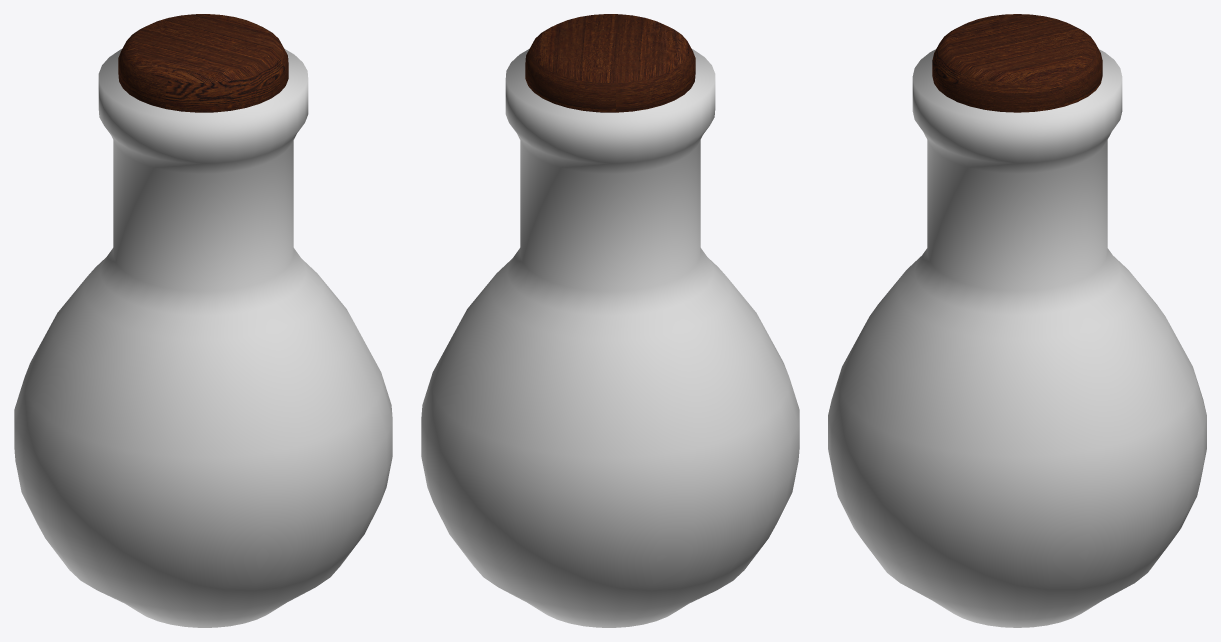
File: G_Potion.fbx
The picture shows the model from 3 angles, left to right: view 1: azimuth 30°, elevation 25°; view 2: azimuth 150°, elevation 25°; view 3: azimuth 270°, elevation 25°; orthographic projection.
Parts seen in each view (by area): view 1: Potion Glass, Potion Lid; view 2: Potion Glass, Potion Lid; view 3: Potion Glass, Potion Lid.
Boxes of the visible parts, left/top/right/bottom form: Potion Glass: left=14, top=49, right=392, bottom=627; Potion Lid: left=118, top=14, right=288, bottom=112; Potion Glass: left=421, top=49, right=799, bottom=627; Potion Lid: left=525, top=14, right=695, bottom=112; Potion Glass: left=828, top=49, right=1206, bottom=627; Potion Lid: left=932, top=14, right=1102, bottom=112.
Size of the model in its own units: 8.2 by 13.15 by 8.2.
